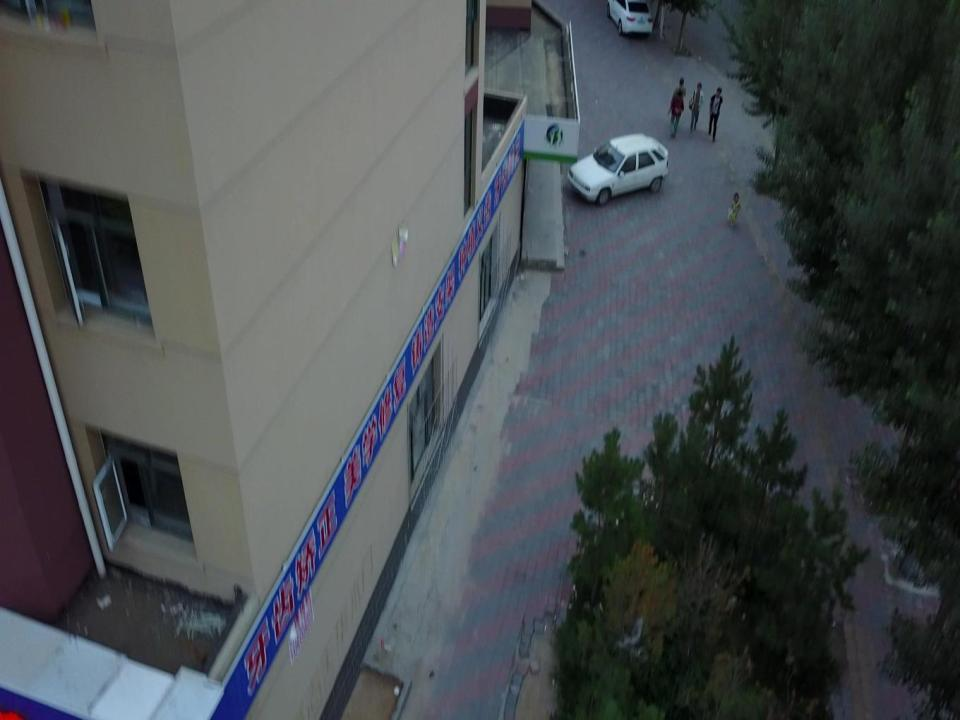car: (568, 134, 669, 206), (606, 0, 654, 37)
